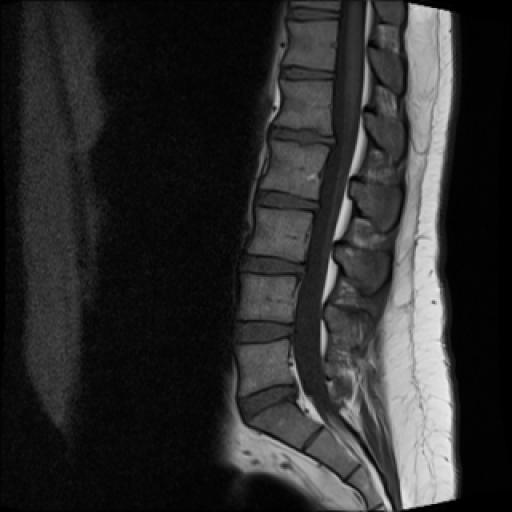L1: (273, 78, 333, 134)
L2: (260, 140, 329, 200)
L3: (248, 206, 313, 262)
L4: (238, 276, 296, 322)
L5: (235, 339, 294, 396)
S1: (248, 400, 320, 450)
